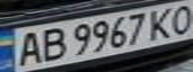6: (109, 14, 133, 50)
7: (124, 10, 151, 45)
9: (66, 20, 93, 57), (87, 18, 112, 54)
A: (9, 29, 45, 68)
B: (36, 25, 69, 63)
K: (145, 5, 178, 39)
O: (166, 1, 193, 35)
